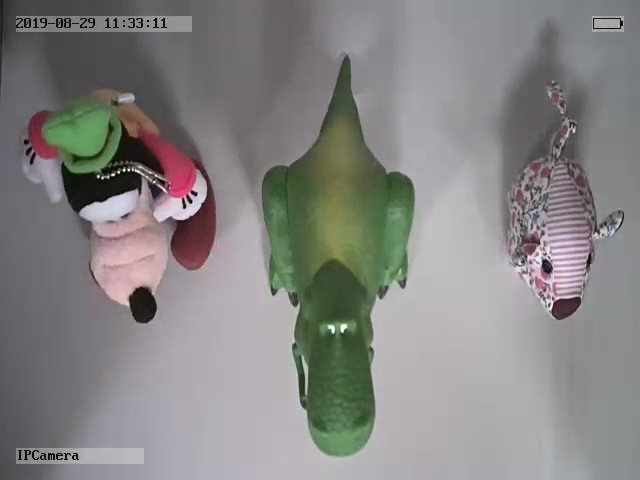goofy: (18, 85, 216, 325)
pig: (504, 78, 625, 321)
rex: (262, 54, 415, 459)
